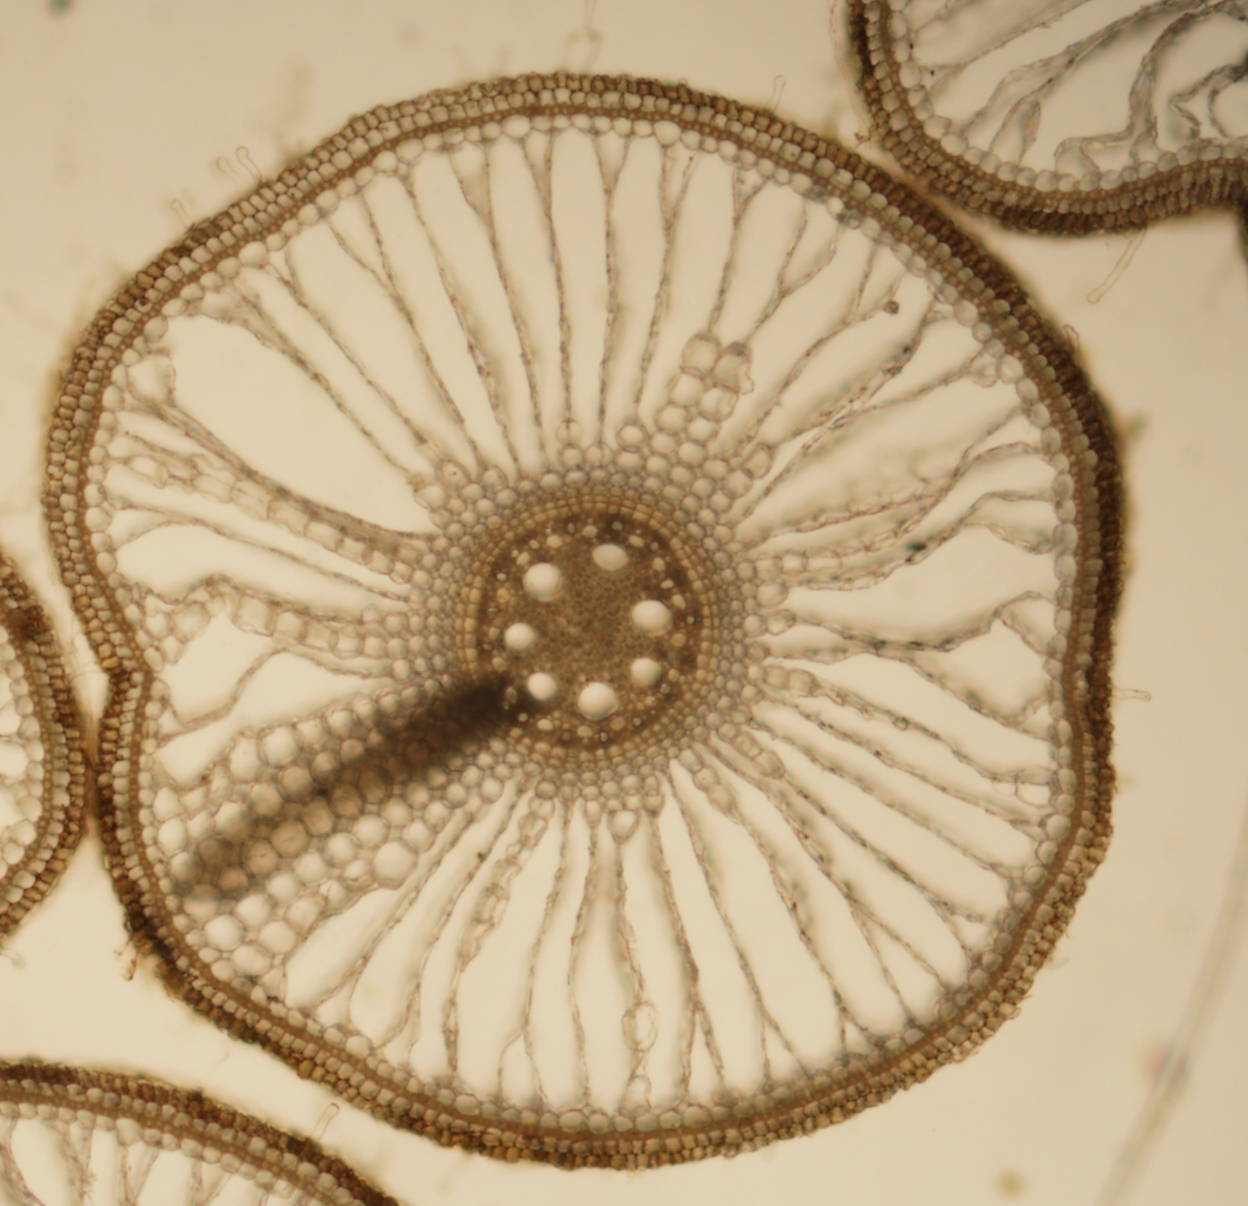lm: (524, 562, 567, 603), (632, 600, 673, 638), (579, 682, 618, 720), (504, 623, 539, 652), (593, 544, 628, 571), (631, 658, 660, 689), (527, 672, 556, 700)
